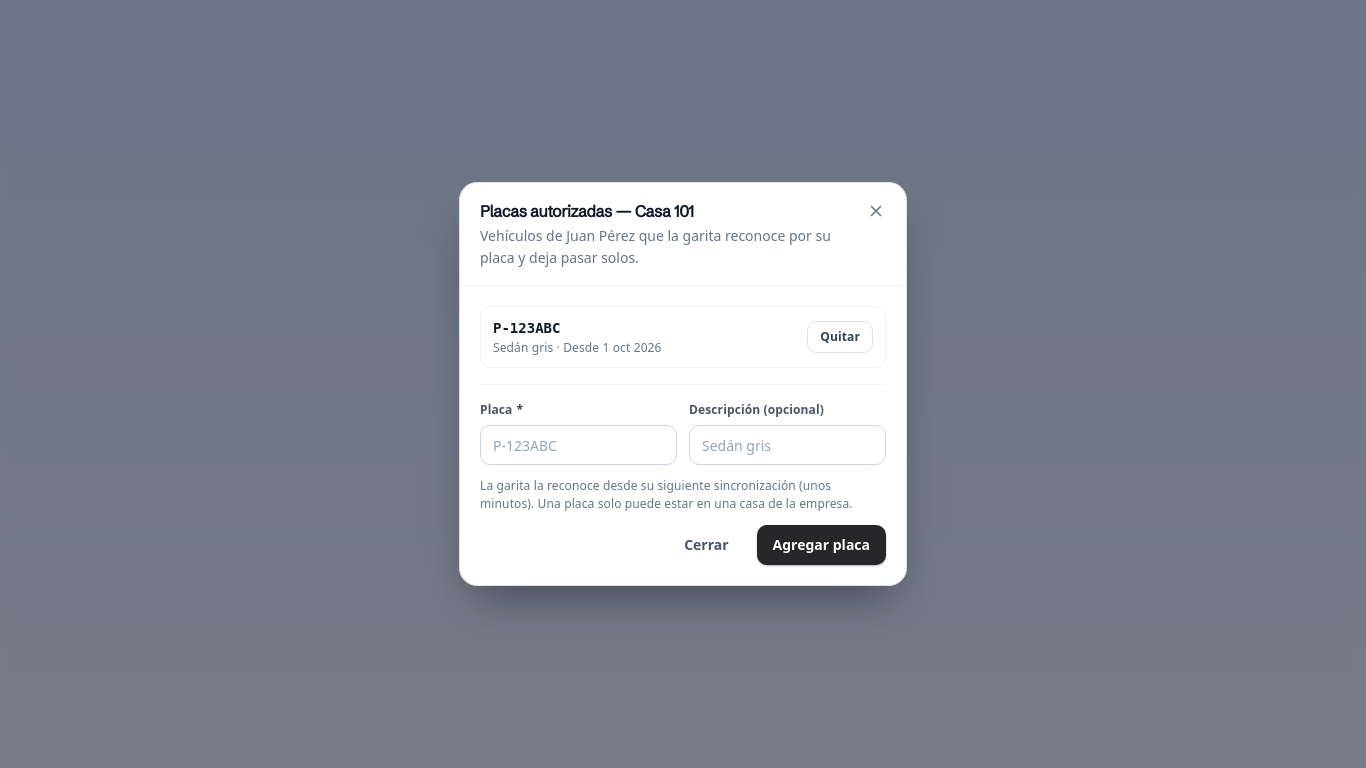
PlacasResidente › alta: el rechazo del servidor (placa de otra casa) se muestra tal cual
This screenshot has width=1366, height=768.
Expected: the text "P-123ABC" is shown, left=493, top=320, right=560, bottom=336
Step 1. Type "P123ABC" into the field labelled "Placa*" → (578,445), box left=480, top=425, right=677, bottom=465
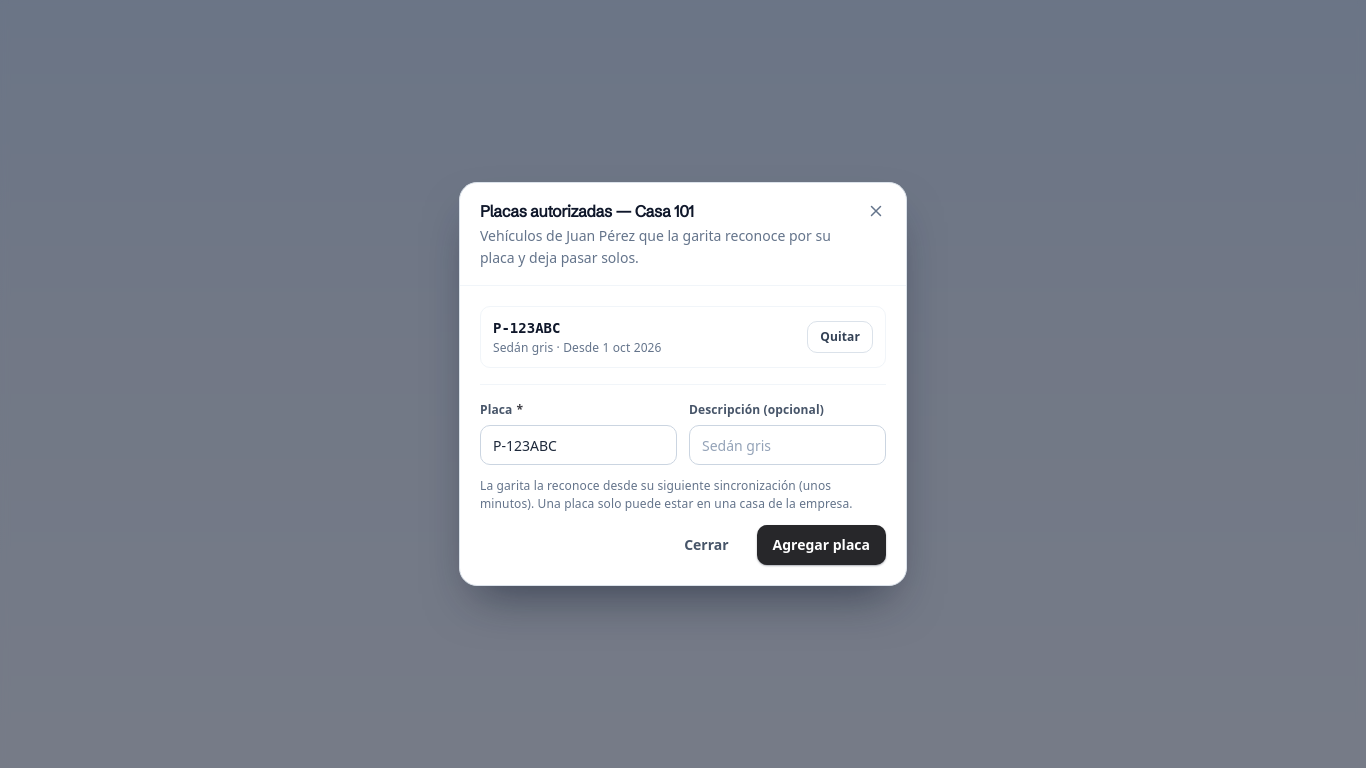
Step 2. Click the button "Agregar placa" → (821,545), box left=757, top=525, right=886, bottom=565
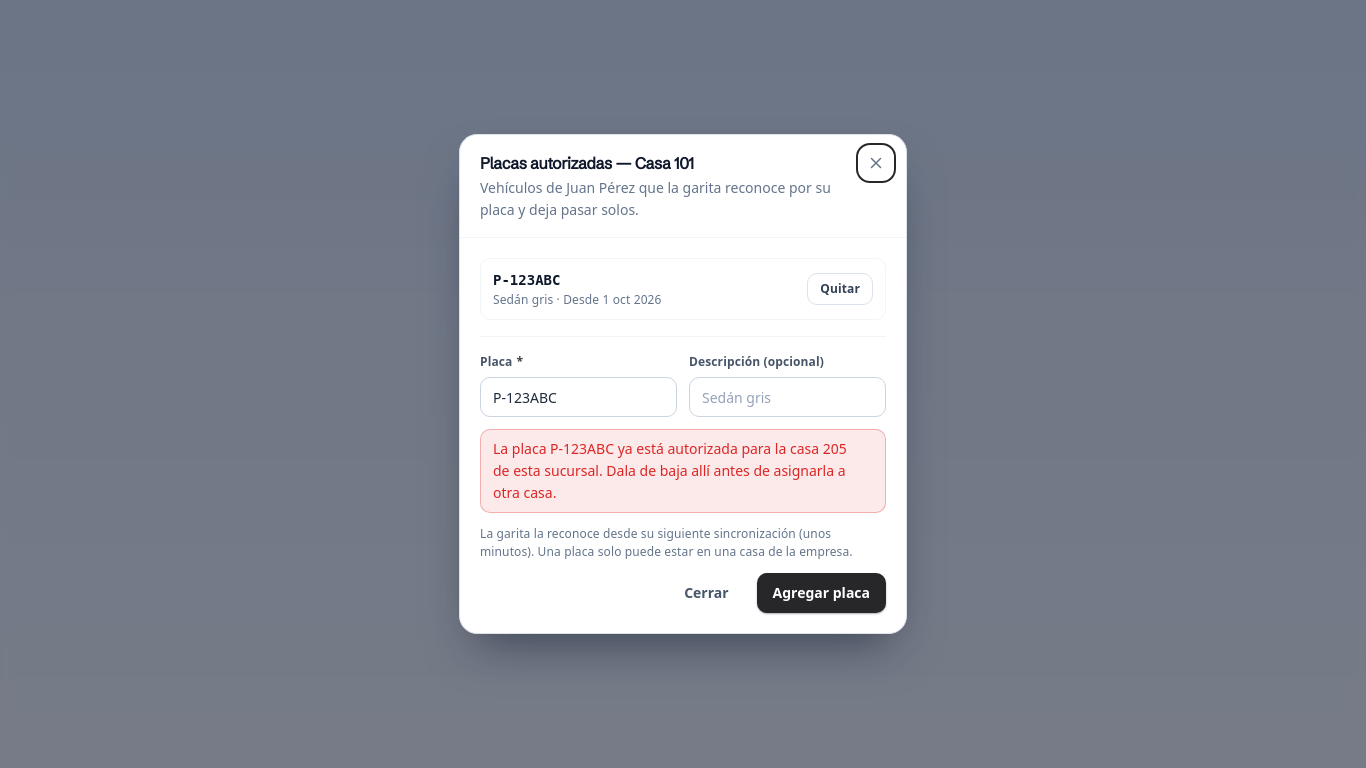
Expected: the message shows "ya está autorizada para la casa 205", left=493, top=439, right=847, bottom=502
